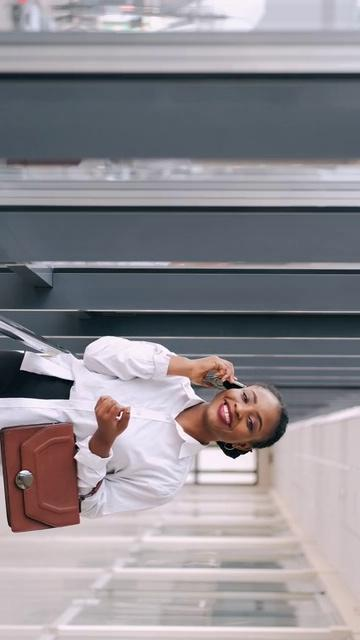phone: (220, 374, 247, 391)
